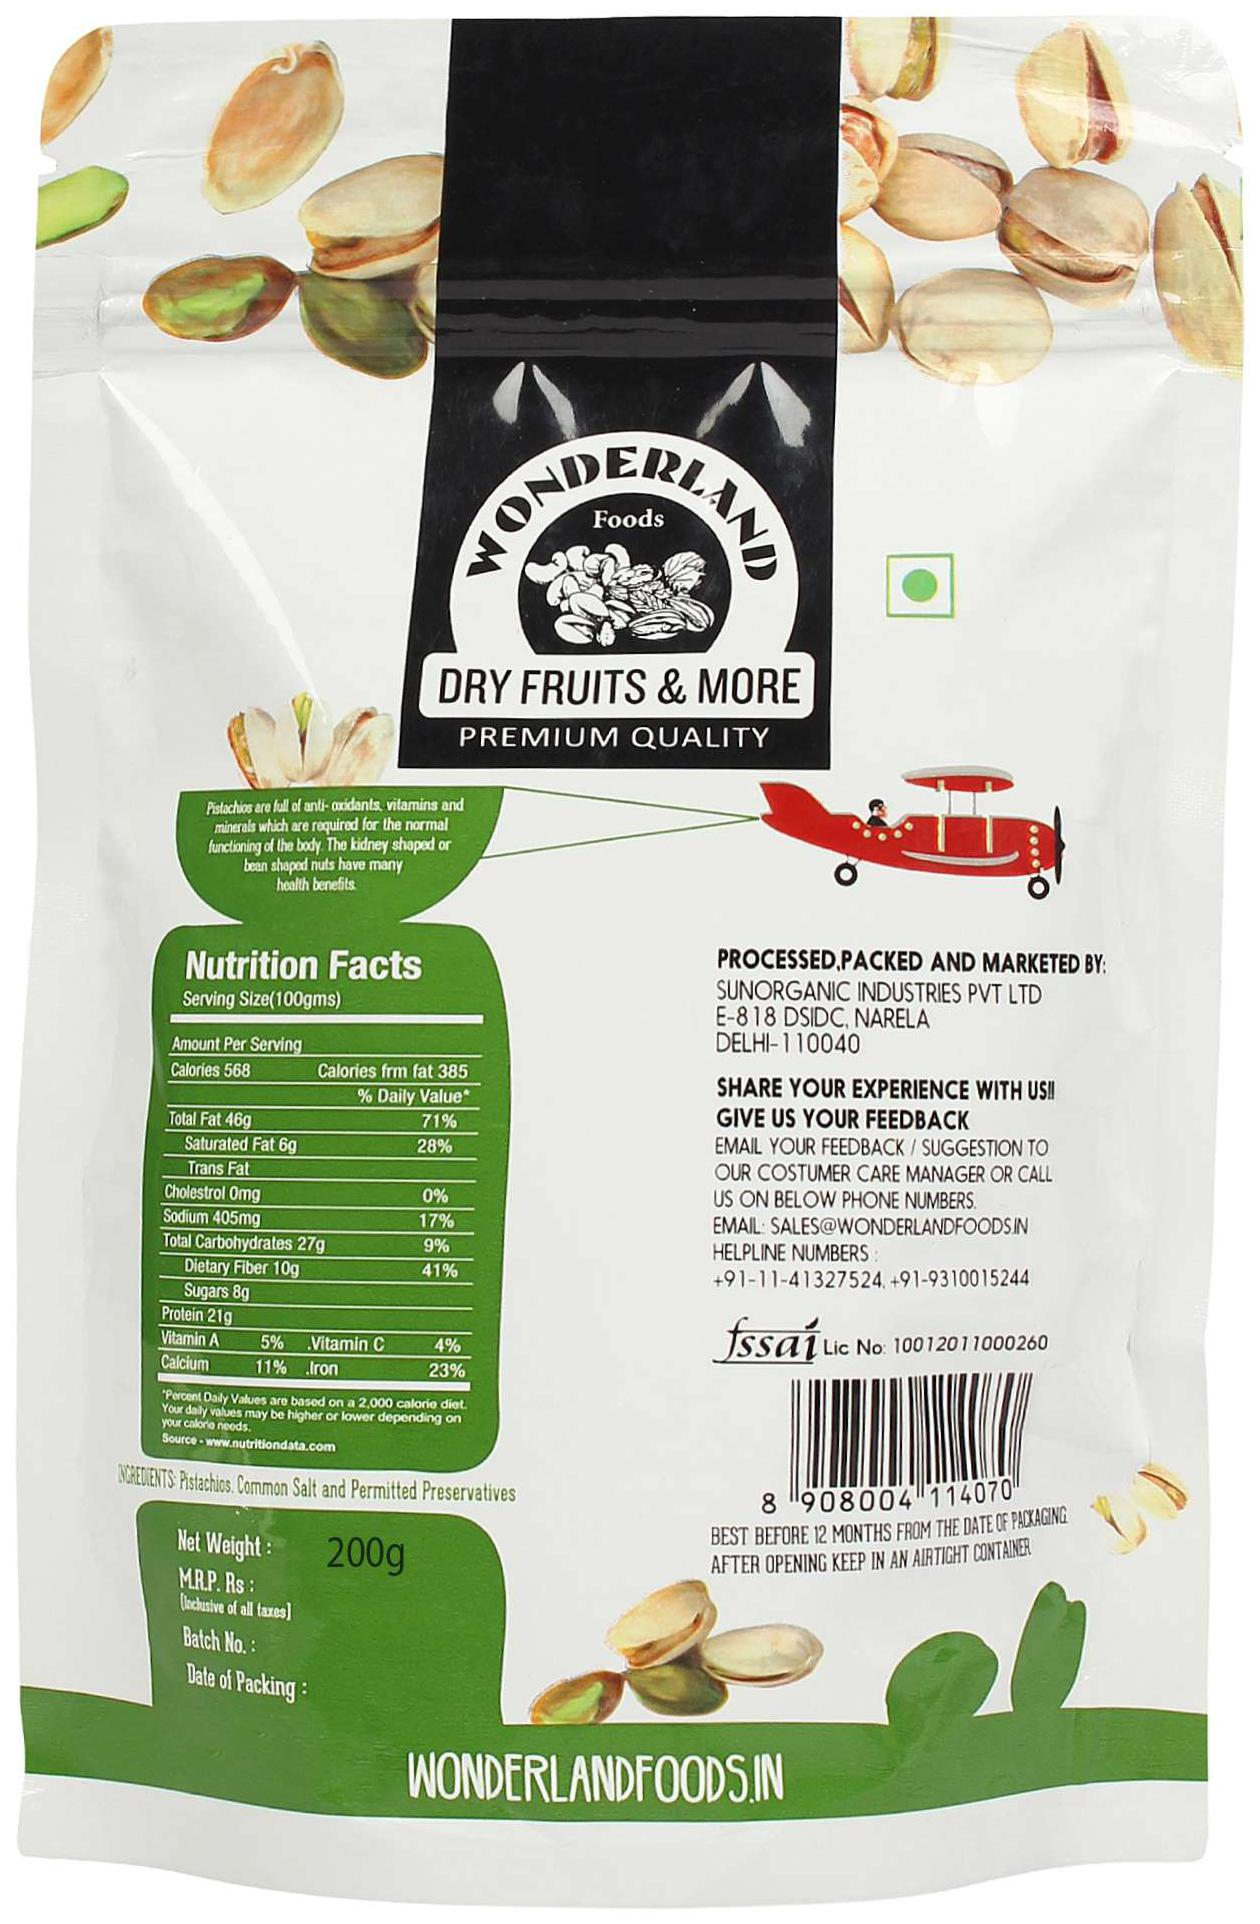fssai: (714, 1316, 820, 1366)
